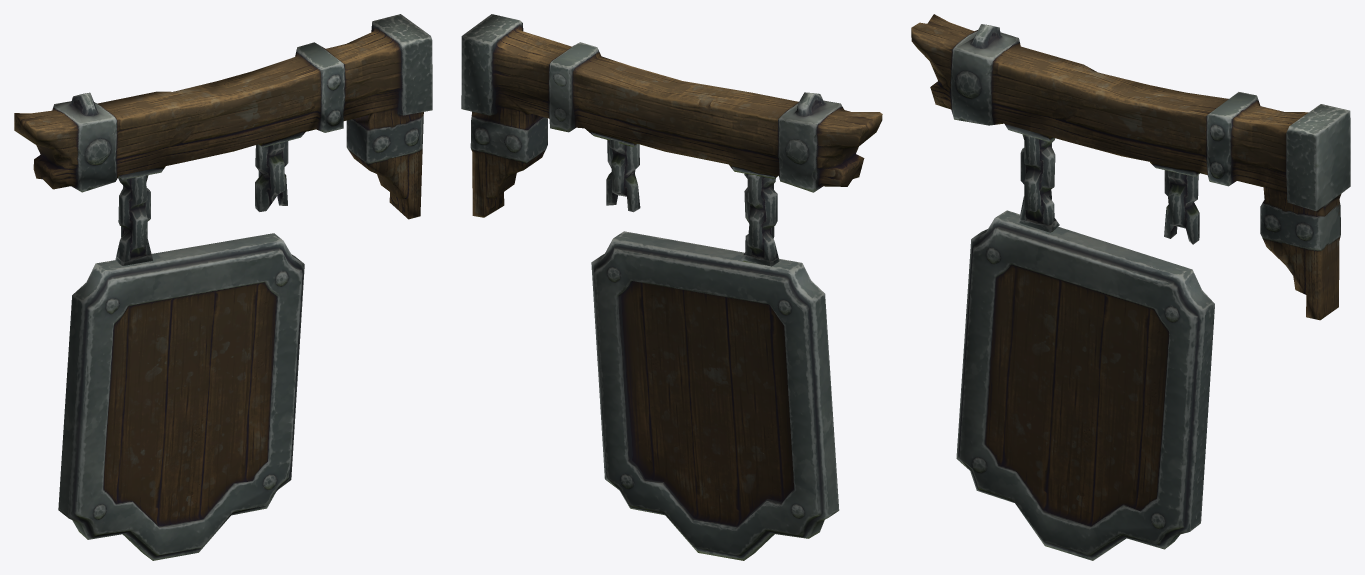
The model's file is S_MVillage_Signs_01_D.fbx.
3 views of the same model, side by side, from view 1: azimuth 30°, elevation 25°; view 2: azimuth 150°, elevation 25°; view 3: azimuth 330°, elevation 25° (orthographic). The views are drawn at different scales.
Visible parts, largest first — view 1: S_MVillage_Signs_01_D_LOD0; view 2: S_MVillage_Signs_01_D_LOD0; view 3: S_MVillage_Signs_01_D_LOD0.
Part boxes in pixels (box(x1,y1,x2,y2)): S_MVillage_Signs_01_D_LOD0: box(14, 14, 432, 560); S_MVillage_Signs_01_D_LOD0: box(461, 14, 882, 560); S_MVillage_Signs_01_D_LOD0: box(911, 14, 1350, 560).
Size of what is drawn, in the model's own units: 187 by 218 by 29.43.
